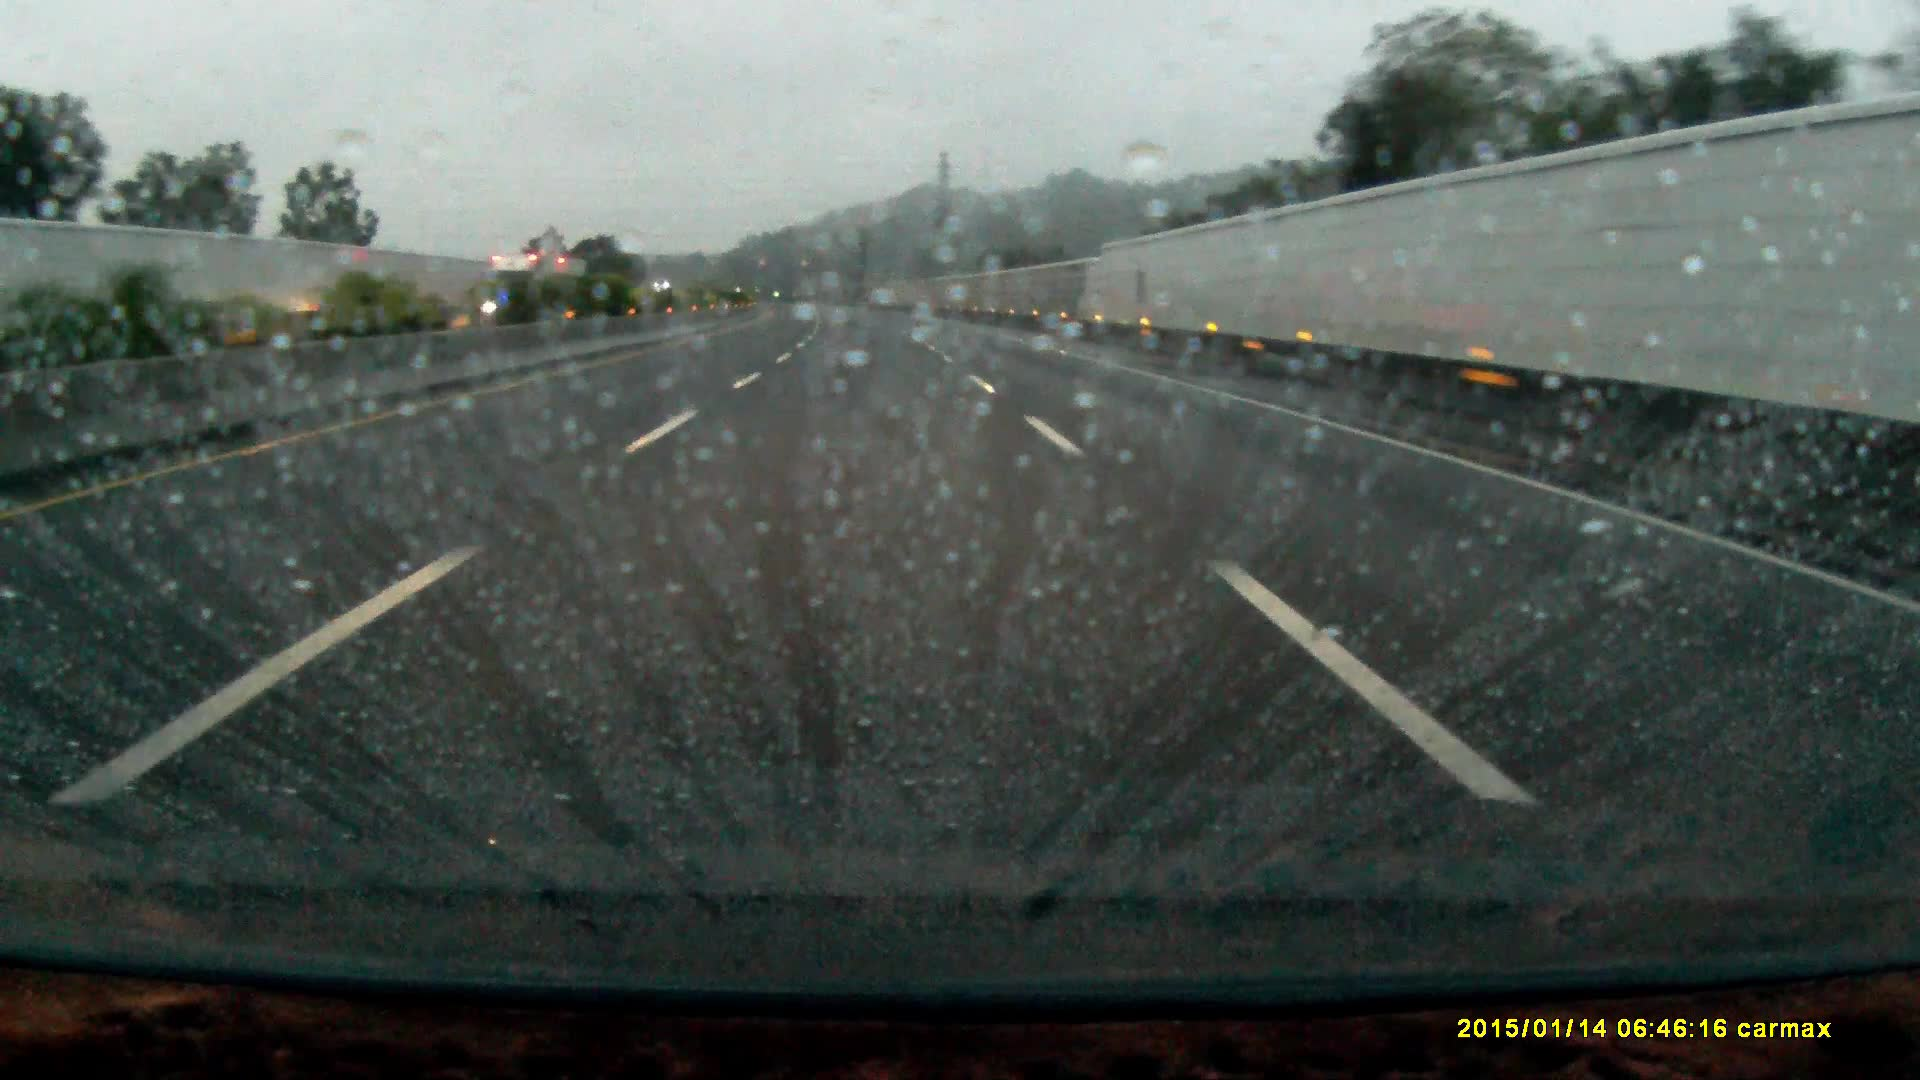vehicle: (481, 251, 584, 314)
